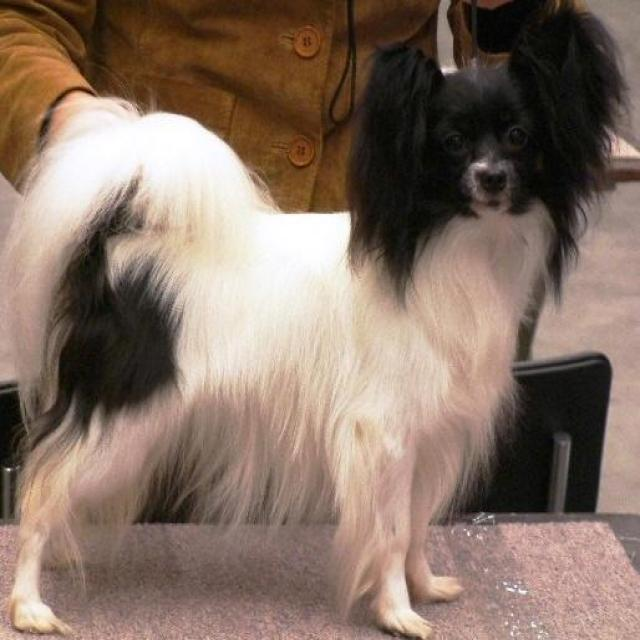papillon: (0, 0, 628, 636)
